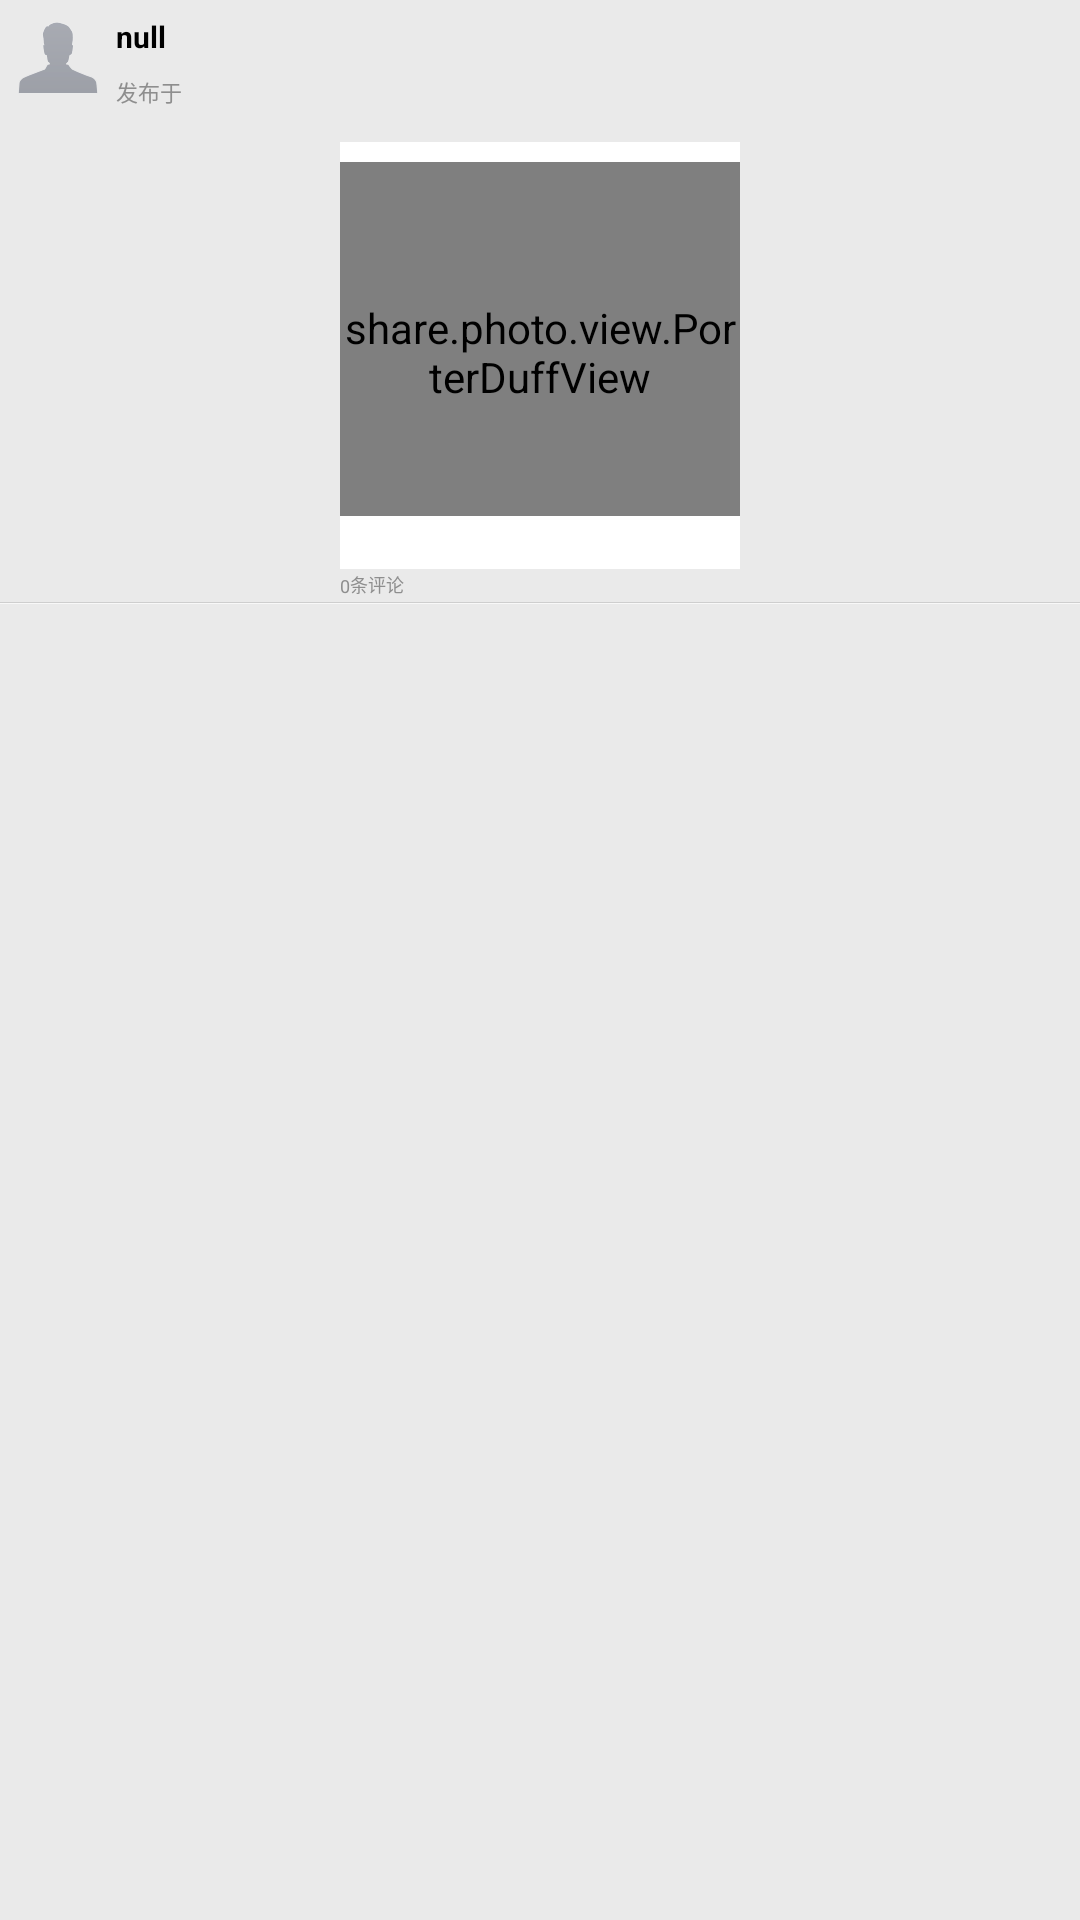

Icon bounding boxes for this 1080px x 1920px phone screenshot, format (x1, y1, x2, y2):
public head pic: (19, 23, 97, 93)
